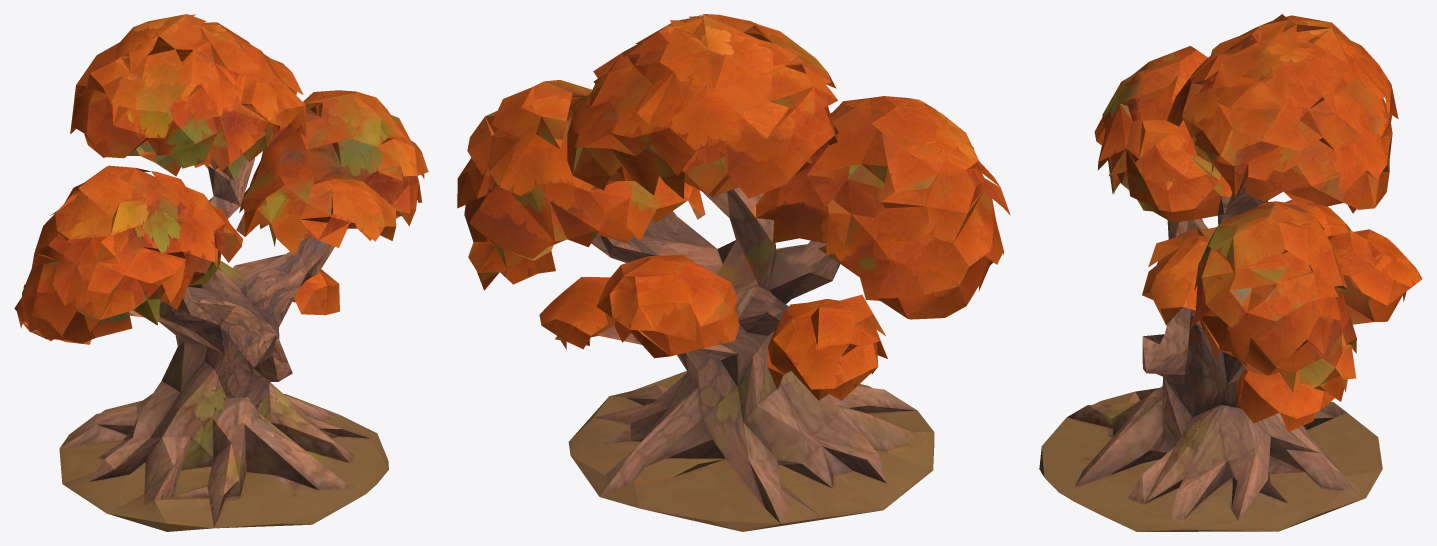
The model's file is tree-oak.glb.
3 renders of one model, left to right at view 1: azimuth 30°, elevation 25°; view 2: azimuth 150°, elevation 25°; view 3: azimuth 270°, elevation 25°, orthographic. The views are drawn at different scales.
Size of the model in its own units: 7.97 by 7.5 by 5.88.
Materials: 1 (1 with a texture image).
